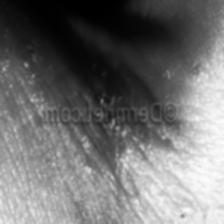Toxin: (71, 123, 169, 174), (84, 66, 156, 105), (0, 28, 36, 79)
